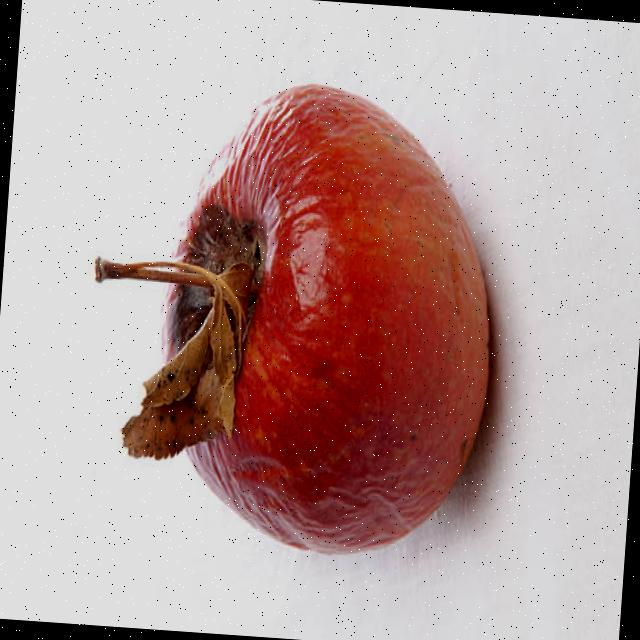overripe: (134, 67, 516, 574)
